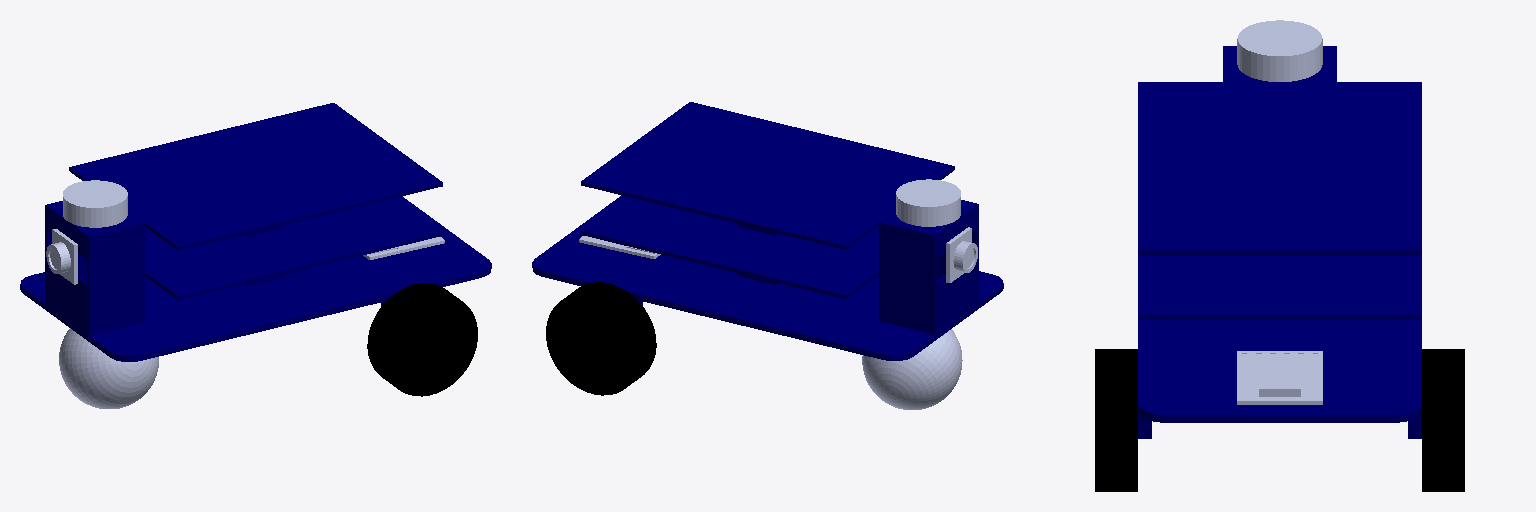
The robot description file, URDF, robot "Matrix_bot":
<?xml version="1.0" encoding="utf-8"?>
<!-- This URDF was automatically created by SolidWorks to URDF Exporter! Originally created by [author] ([email redacted]) 
     Commit Version: 1.6.0-4-g7f85cfe  Build Version: 1.6.7995.38578
     For more information, please see http://wiki.ros.org/sw_urdf_exporter -->
<robot
  name="Matrix_bot">
  <link
    name="base_link">
    <inertial>
      <origin
        xyz="0.093369 0.11497 0.14761"
        rpy="0 0 0" />
      <mass
        value="0.13905" />
      <inertia
        ixx="0.00017494"
        ixy="2.0984E-05"
        ixz="1.0621E-19"
        iyy="0.00050221"
        iyz="-3.5355E-20"
        izz="0.00045182" />
    </inertial>
    <visual>
      <origin
        xyz="0 0 0"
        rpy="0 0 0" />
      <geometry>
        <mesh
          filename="package://Matrix_bot/meshes/base_link.STL" />
      </geometry>
      <material
        name="">
        <color
          rgba="0 0 0.50196 1" />
      </material>
    </visual>
    <collision>
      <origin
        xyz="0 0 0"
        rpy="0 0 0" />
      <geometry>
        <mesh
          filename="package://Matrix_bot/meshes/base_link.STL" />
      </geometry>
    </collision>
  </link>
  <link
    name="left_wheel">
    <inertial>
      <origin
        xyz="1.3878E-17 0 0.0075"
        rpy="0 0 0" />
      <mass
        value="0.029452" />
      <inertia
        ixx="5.1542E-06"
        ixy="0"
        ixz="-4.7835E-22"
        iyy="5.1542E-06"
        iyz="1.1369E-22"
        izz="9.2039E-06" />
    </inertial>
    <visual>
      <origin
        xyz="0 0 0"
        rpy="0 0 0" />
      <geometry>
        <mesh
          filename="package://Matrix_bot/meshes/left_wheel.STL" />
      </geometry>
      <material
        name="">
        <color
          rgba="0 0 0 1" />
      </material>
    </visual>
    <collision>
      <origin
        xyz="0 0 0"
        rpy="0 0 0" />
      <geometry>
        <mesh
          filename="package://Matrix_bot/meshes/left_wheel.STL" />
      </geometry>
    </collision>
  </link>
  <joint
    name="left_wheel_joint"
    type="continuous">
    <origin
      xyz="0.15278 -0.19761 0.07511"
      rpy="1.5708 1.2605 0" />
    <parent
      link="base_link" />
    <child
      link="left_wheel" />
    <axis
      xyz="0 0 1" />
  </joint>
  <link
    name="right_wheel">
    <inertial>
      <origin
        xyz="0 0 0.0075"
        rpy="0 0 0" />
      <mass
        value="0.029452" />
      <inertia
        ixx="5.1542E-06"
        ixy="-1.0588E-22"
        ixz="7.0424E-22"
        iyy="5.1542E-06"
        iyz="-1.0273E-22"
        izz="9.2039E-06" />
    </inertial>
    <visual>
      <origin
        xyz="0 0 0"
        rpy="0 0 0" />
      <geometry>
        <mesh
          filename="package://Matrix_bot/meshes/right_wheel.STL" />
      </geometry>
      <material
        name="">
        <color
          rgba="0 0 0 1" />
      </material>
    </visual>
    <collision>
      <origin
        xyz="0 0 0"
        rpy="0 0 0" />
      <geometry>
        <mesh
          filename="package://Matrix_bot/meshes/right_wheel.STL" />
      </geometry>
    </collision>
  </link>
  <joint
    name="right_wheel_joint"
    type="continuous">
    <origin
      xyz="0.15278 -0.082606 0.07511"
      rpy="1.5708 1.2605 0" />
    <parent
      link="base_link" />
    <child
      link="right_wheel" />
    <axis
      xyz="0 0 1" />
  </joint>
  <link
    name="camera">
    <inertial>
      <origin
        xyz="0.0025169 2.7756E-17 0"
        rpy="0 0 0" />
      <mass
        value="0.0014912" />
      <inertia
        ixx="7.1209E-08"
        ixy="-1.0818E-24"
        ixz="1.6981E-25"
        iyy="4.109E-08"
        iyz="-1.2613E-25"
        izz="4.109E-08" />
    </inertial>
    <visual>
      <origin
        xyz="0 0 0"
        rpy="0 0 0" />
      <geometry>
        <mesh
          filename="package://Matrix_bot/meshes/camera.STL" />
      </geometry>
      <material
        name="">
        <color
          rgba="0.79216 0.81961 0.93333 1" />
      </material>
    </visual>
    <collision>
      <origin
        xyz="0 0 0"
        rpy="0 0 0" />
      <geometry>
        <mesh
          filename="package://Matrix_bot/meshes/camera.STL" />
      </geometry>
    </collision>
  </link>
  <joint
    name="camera_joint"
    type="fixed">
    <origin
      xyz="-0.00222 -0.14781 0.13036"
      rpy="-1.5708 0 -3.1416" />
    <parent
      link="base_link" />
    <child
      link="camera" />
    <axis
      xyz="0 0 0" />
  </joint>
  <link
    name="imu_sensor">
    <inertial>
      <origin
        xyz="0.0021474 0.00098837 0"
        rpy="0 0 0" />
      <mass
        value="0.001935" />
      <inertia
        ixx="1.3414E-07"
        ixy="-6.627E-09"
        ixz="4.4804E-23"
        iyy="3.9614E-07"
        iyz="-4.7168E-22"
        izz="2.6503E-07" />
    </inertial>
    <visual>
      <origin
        xyz="0 0 0"
        rpy="0 0 0" />
      <geometry>
        <mesh
          filename="package://Matrix_bot/meshes/imu_sensor.STL" />
      </geometry>
      <material
        name="">
        <color
          rgba="0.79216 0.81961 0.93333 1" />
      </material>
    </visual>
    <collision>
      <origin
        xyz="0 0 0"
        rpy="0 0 0" />
      <geometry>
        <mesh
          filename="package://Matrix_bot/meshes/imu_sensor.STL" />
      </geometry>
    </collision>
  </link>
  <joint
    name="imu_sensor_joint"
    type="fixed">
    <origin
      xyz="0.16926 -0.14761 0.098569"
      rpy="1.5708 0.016066 0" />
    <parent
      link="base_link" />
    <child
      link="imu_sensor" />
    <axis
      xyz="0 0 0" />
  </joint>
  <link
    name="castor_wheel">
    <inertial>
      <origin
        xyz="-0.0081505 0.031103 0.010389"
        rpy="0 0 0" />
      <mass
        value="0.050965" />
      <inertia
        ixx="1.0784E-05"
        ixy="2.1176E-22"
        ixz="-1.0588E-21"
        iyy="1.0784E-05"
        iyz="-1.0588E-21"
        izz="1.0784E-05" />
    </inertial>
    <visual>
      <origin
        xyz="0 0 0"
        rpy="0 0 0" />
      <geometry>
        <mesh
          filename="package://Matrix_bot/meshes/castor_wheel.STL" />
      </geometry>
      <material
        name="">
        <color
          rgba="0.79216 0.81961 0.93333 1" />
      </material>
    </visual>
    <collision>
      <origin
        xyz="0 0 0"
        rpy="0 0 0" />
      <geometry>
        <mesh
          filename="package://Matrix_bot/meshes/castor_wheel.STL" />
      </geometry>
    </collision>
  </link>
  <joint
    name="castor_wheel_joint"
    type="continuous">
    <origin
      xyz="0.02078 -0.11267 0.072307"
      rpy="2.6965 -0.45783 0.27225" />
    <parent
      link="base_link" />
    <child
      link="castor_wheel" />
    <axis
      xyz="0.24121 -0.92049 -0.30745" />
  </joint>
  <link
    name="lidar_sensor">
    <inertial>
      <origin
        xyz="0 0.005 -2.7756E-17"
        rpy="0 0 0" />
      <mass
        value="0.0070686" />
      <inertia
        ixx="4.5651E-07"
        ixy="-1.0245E-39"
        ixz="0"
        iyy="7.9522E-07"
        iyz="-1.4349E-39"
        izz="4.5651E-07" />
    </inertial>
    <visual>
      <origin
        xyz="0 0 0"
        rpy="0 0 0" />
      <geometry>
        <mesh
          filename="package://Matrix_bot/meshes/lidar_sensor.STL" />
      </geometry>
      <material
        name="">
        <color
          rgba="0.79216 0.81961 0.93333 1" />
      </material>
    </visual>
    <collision>
      <origin
        xyz="0 0 0"
        rpy="0 0 0" />
      <geometry>
        <mesh
          filename="package://Matrix_bot/meshes/lidar_sensor.STL" />
      </geometry>
    </collision>
  </link>
  <joint
    name="lidar_sensor_joint"
    type="fixed">
    <origin
      xyz="0.01278 -0.14761 0.14811"
      rpy="1.5708 0 0" />
    <parent
      link="base_link" />
    <child
      link="lidar_sensor" />
    <axis
      xyz="0 0 0" />
  </joint>
</robot>

--- What the picture shows (computed from the rendered views, not written in the file) ---
Views: 3 orthographic renders of the robot side by side, from view 1: azimuth 30°, elevation 25°; view 2: azimuth 150°, elevation 25°; view 3: azimuth 270°, elevation 25°.
Model Matrix_bot with 7 links and 6 joints (3 continuous, 3 fixed), rooted at base_link, posed every joint at zero.
Links seen in each view (by area): view 1: base_link, left_wheel, castor_wheel, lidar_sensor, camera, imu_sensor; view 2: base_link, right_wheel, castor_wheel, lidar_sensor, camera, imu_sensor; view 3: base_link, left_wheel, right_wheel, imu_sensor, lidar_sensor.
Link boxes in pixels (bbox=[...]): base_link: bbox=[20, 103, 491, 361]; left_wheel: bbox=[367, 283, 477, 396]; castor_wheel: bbox=[59, 328, 158, 408]; lidar_sensor: bbox=[63, 180, 127, 227]; camera: bbox=[46, 229, 77, 284]; imu_sensor: bbox=[363, 237, 444, 259]; base_link: bbox=[532, 102, 1003, 360]; right_wheel: bbox=[546, 282, 656, 395]; castor_wheel: bbox=[862, 329, 962, 409]; lidar_sensor: bbox=[896, 179, 960, 226]; camera: bbox=[946, 227, 977, 282]; imu_sensor: bbox=[579, 236, 660, 258]; base_link: bbox=[1138, 46, 1421, 438]; left_wheel: bbox=[1095, 349, 1137, 491]; right_wheel: bbox=[1422, 349, 1464, 491]; imu_sensor: bbox=[1237, 351, 1322, 404]; lidar_sensor: bbox=[1237, 20, 1322, 81].
Bounding box of the posed robot: 0.207 × 0.13 × 0.1088 m (x, y, z).
7 mesh visuals loaded from 7 distinct referenced files (7 binary STL).